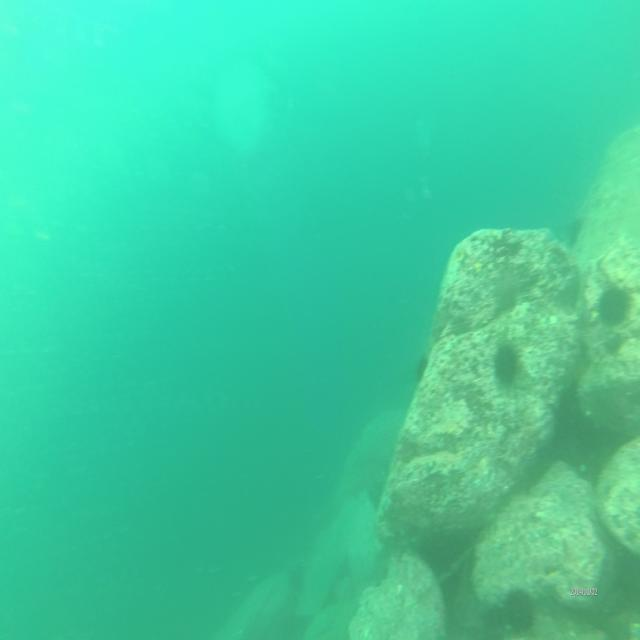echinus: (496, 582, 540, 637), (593, 282, 637, 333), (492, 340, 522, 392), (565, 213, 583, 250), (412, 351, 430, 383)
